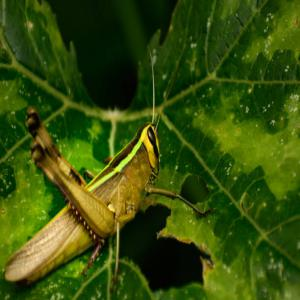locust: (4, 81, 170, 294)
